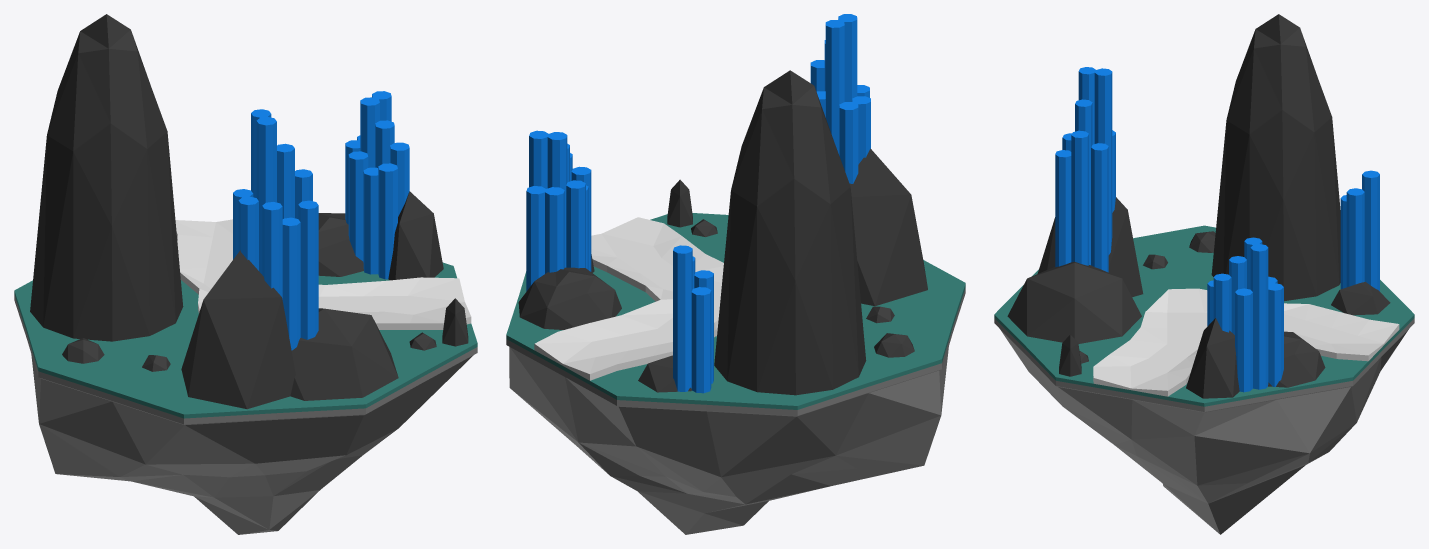
The model's file is Ice_planet_base_002.FBX.
3 renders of one model, left to right at view 1: azimuth 30°, elevation 25°; view 2: azimuth 150°, elevation 25°; view 3: azimuth 270°, elevation 25°, orthographic. The views are drawn at different scales.
Parts seen in each view (by area): view 1: 002_ICE PLANET; view 2: 002_ICE PLANET; view 3: 002_ICE PLANET.
Part boxes in pixels (x1,y1,x2,y2): 002_ICE PLANET: (14,14,477,534); 002_ICE PLANET: (506,14,965,534); 002_ICE PLANET: (994,14,1414,534).
Size of the model in its own units: 16.22 by 19.65 by 16.22.
